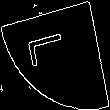L_E: (31, 34, 79, 76)
